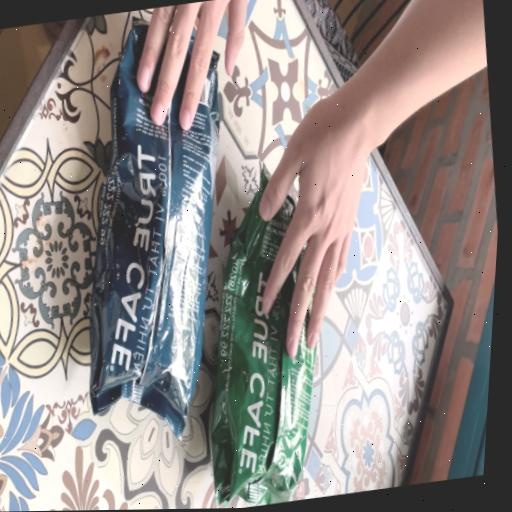cafe_hat: (89, 22, 219, 439)
cafe_xay: (208, 168, 315, 508)
